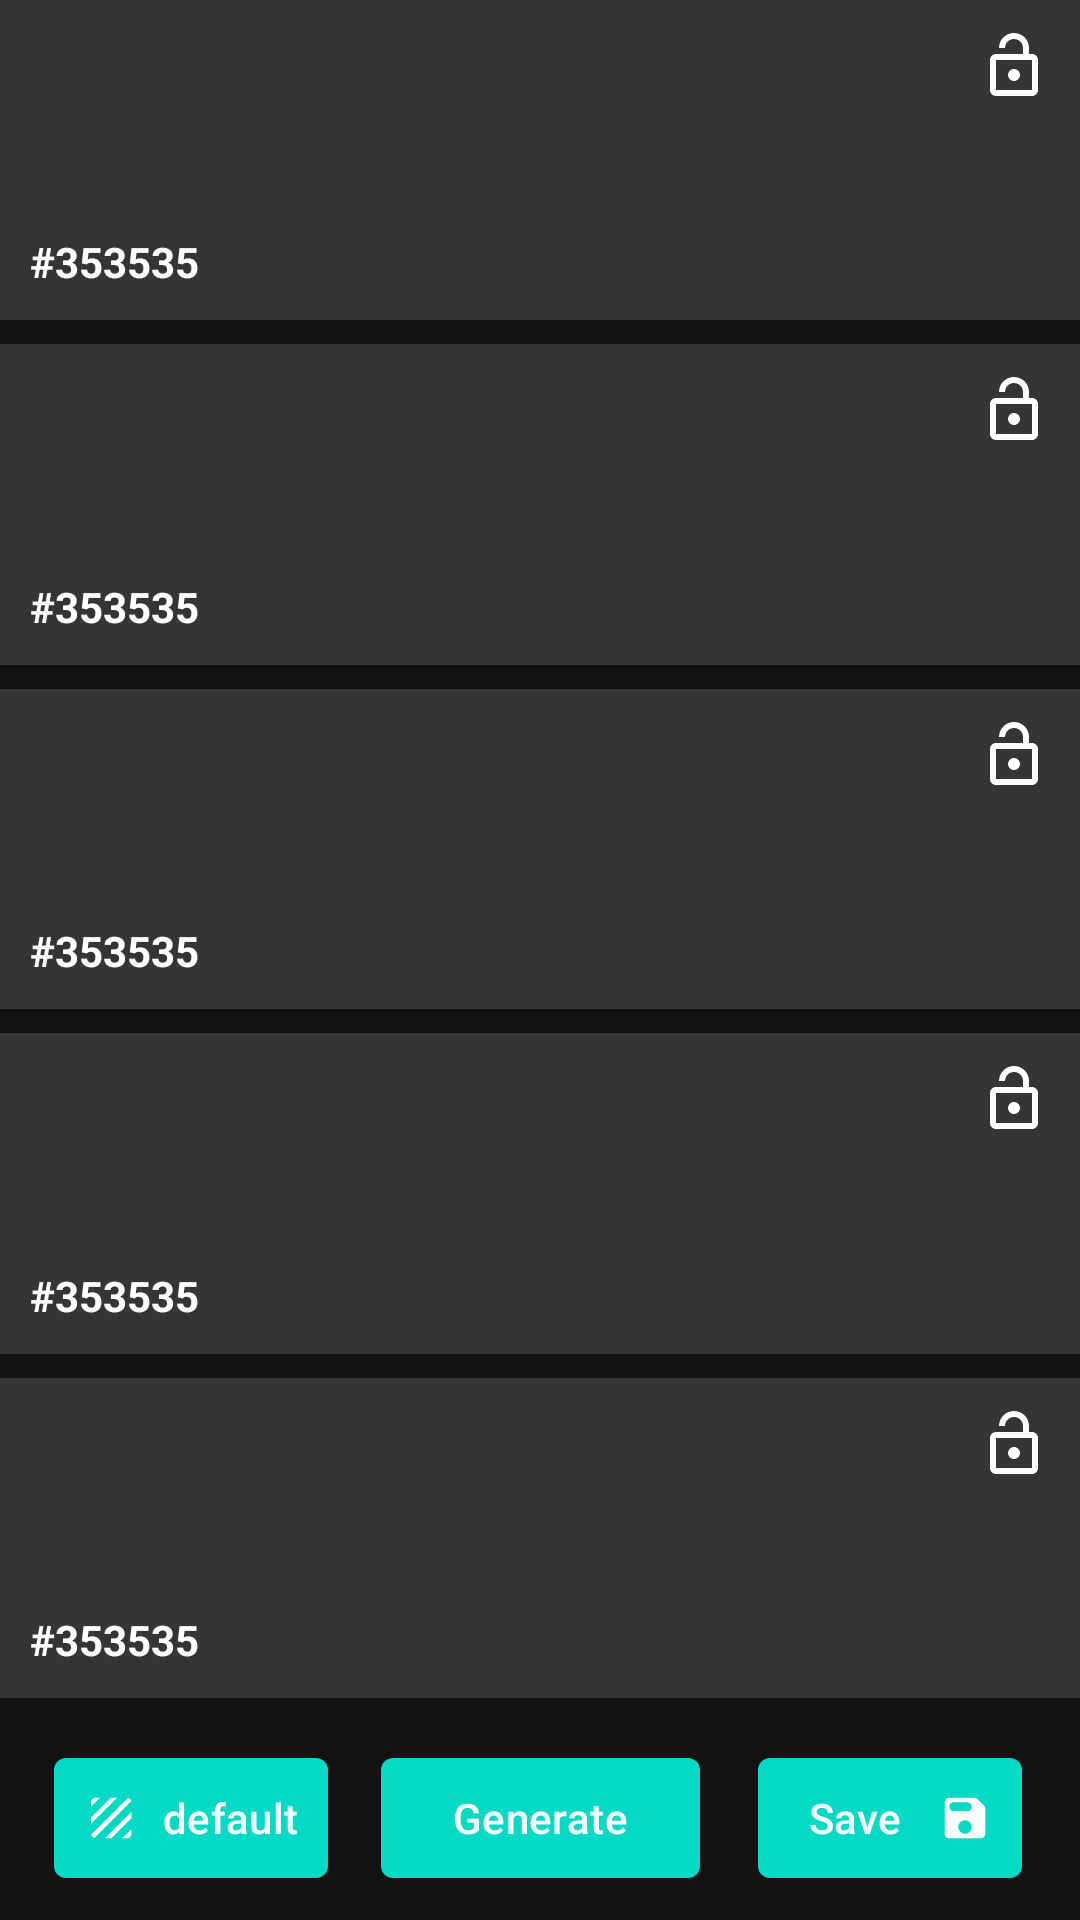

Where icons sit on this 1080*1920 app screen, as (x1, y1, x2, y2):
lock unlocked: (990, 33, 1038, 96), (990, 377, 1038, 440), (990, 722, 1038, 785), (990, 1066, 1038, 1129), (990, 1411, 1038, 1474)
